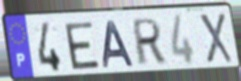4: (170, 12, 199, 68), (38, 21, 64, 74)
A: (102, 19, 136, 69)
E: (62, 20, 102, 72)
R: (131, 16, 166, 68)
X: (197, 12, 235, 66)
